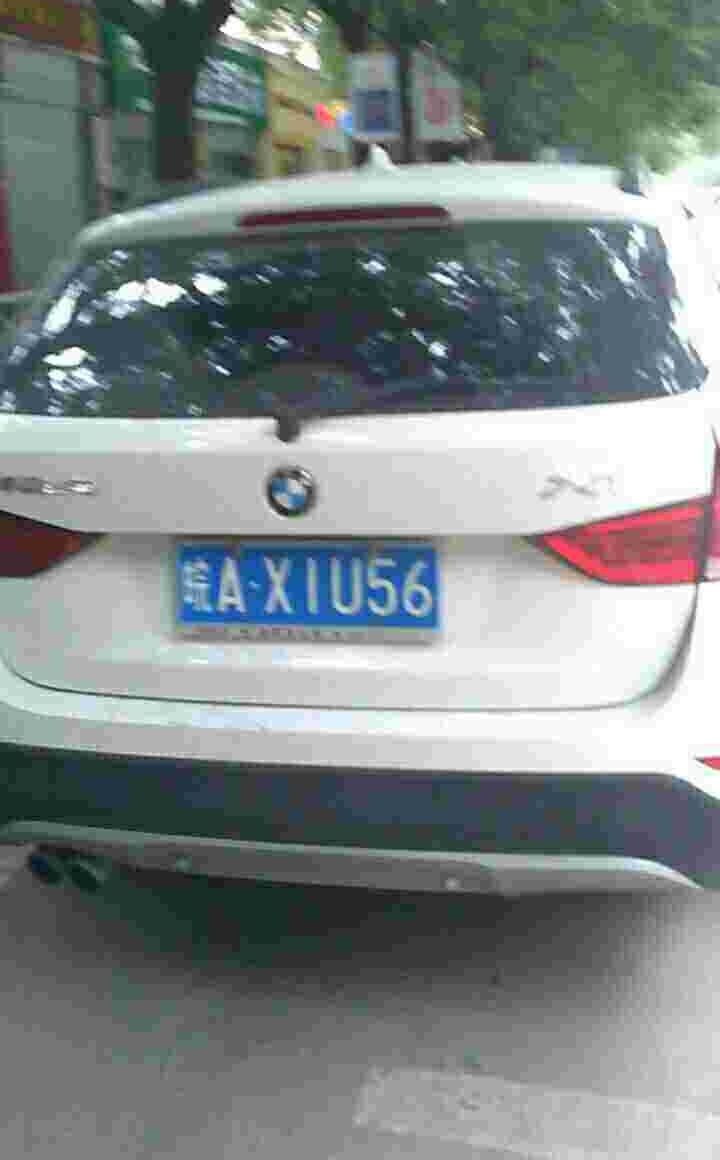plate: (174, 538, 445, 633)
